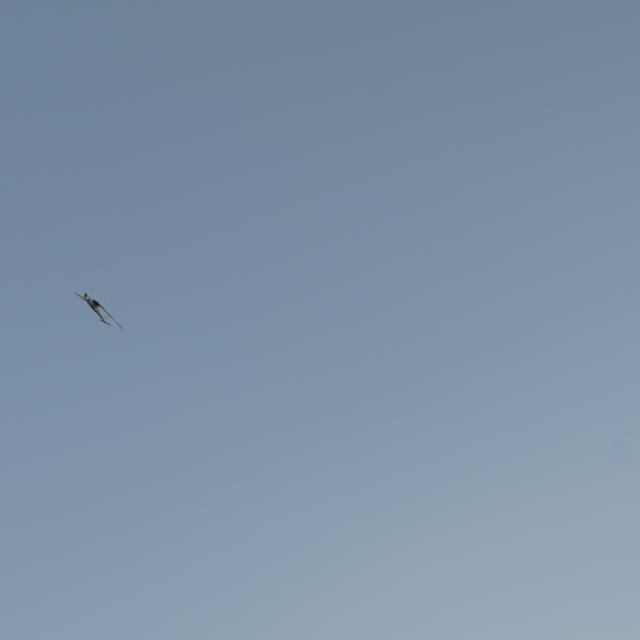Airaplan: (73, 291, 123, 331)
